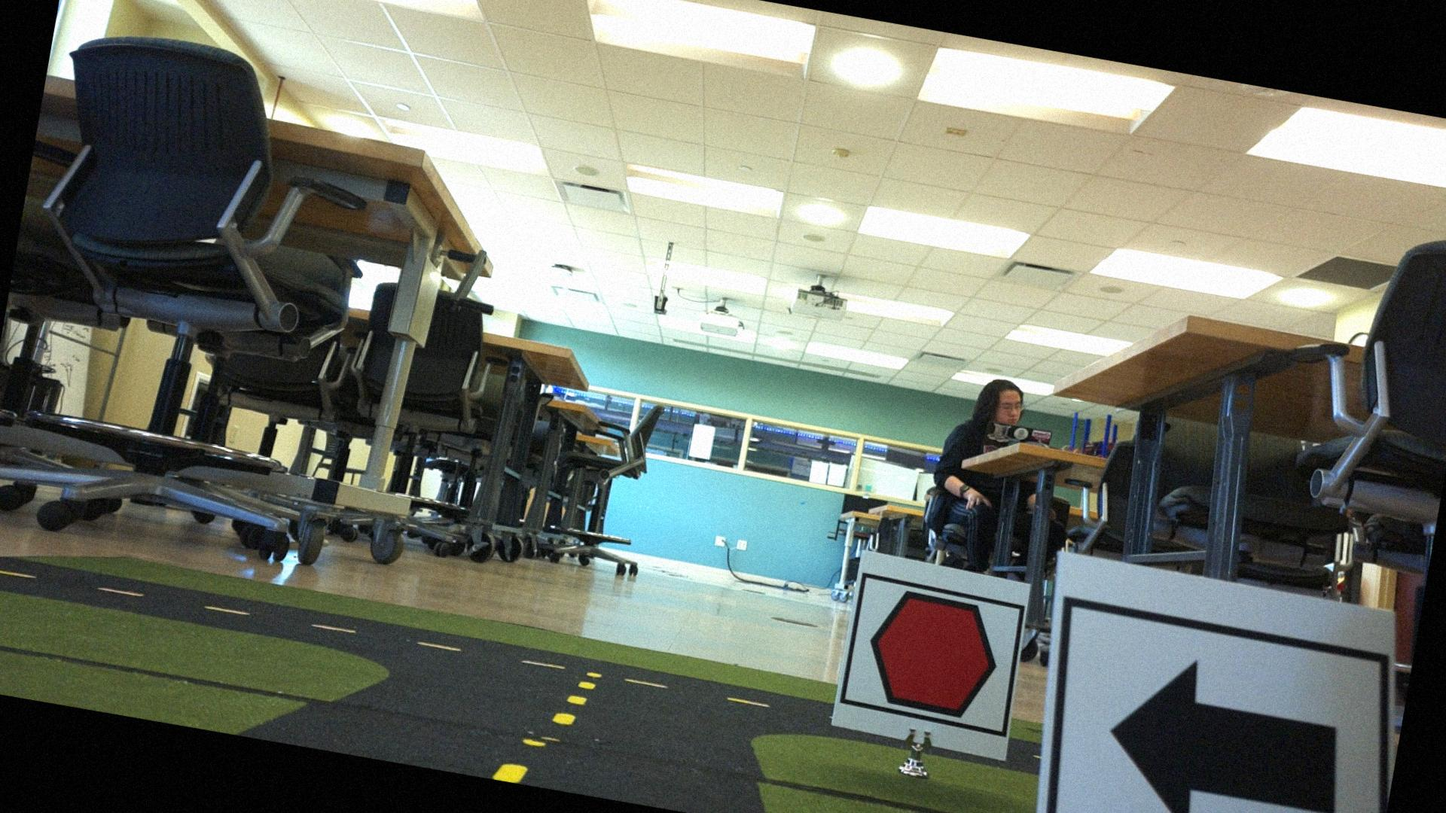stop: (838, 580, 1024, 730)
turnright: (1032, 605, 1394, 812)
yellowline: (496, 667, 593, 793)
